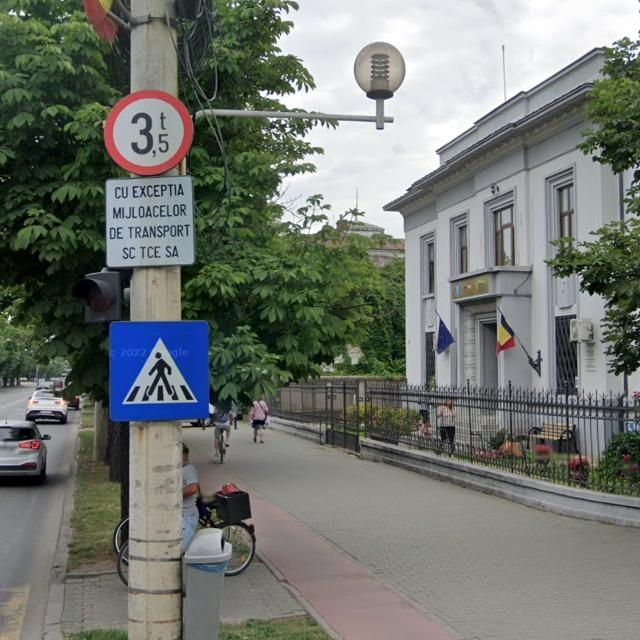info_crosswalk: (108, 320, 209, 422)
